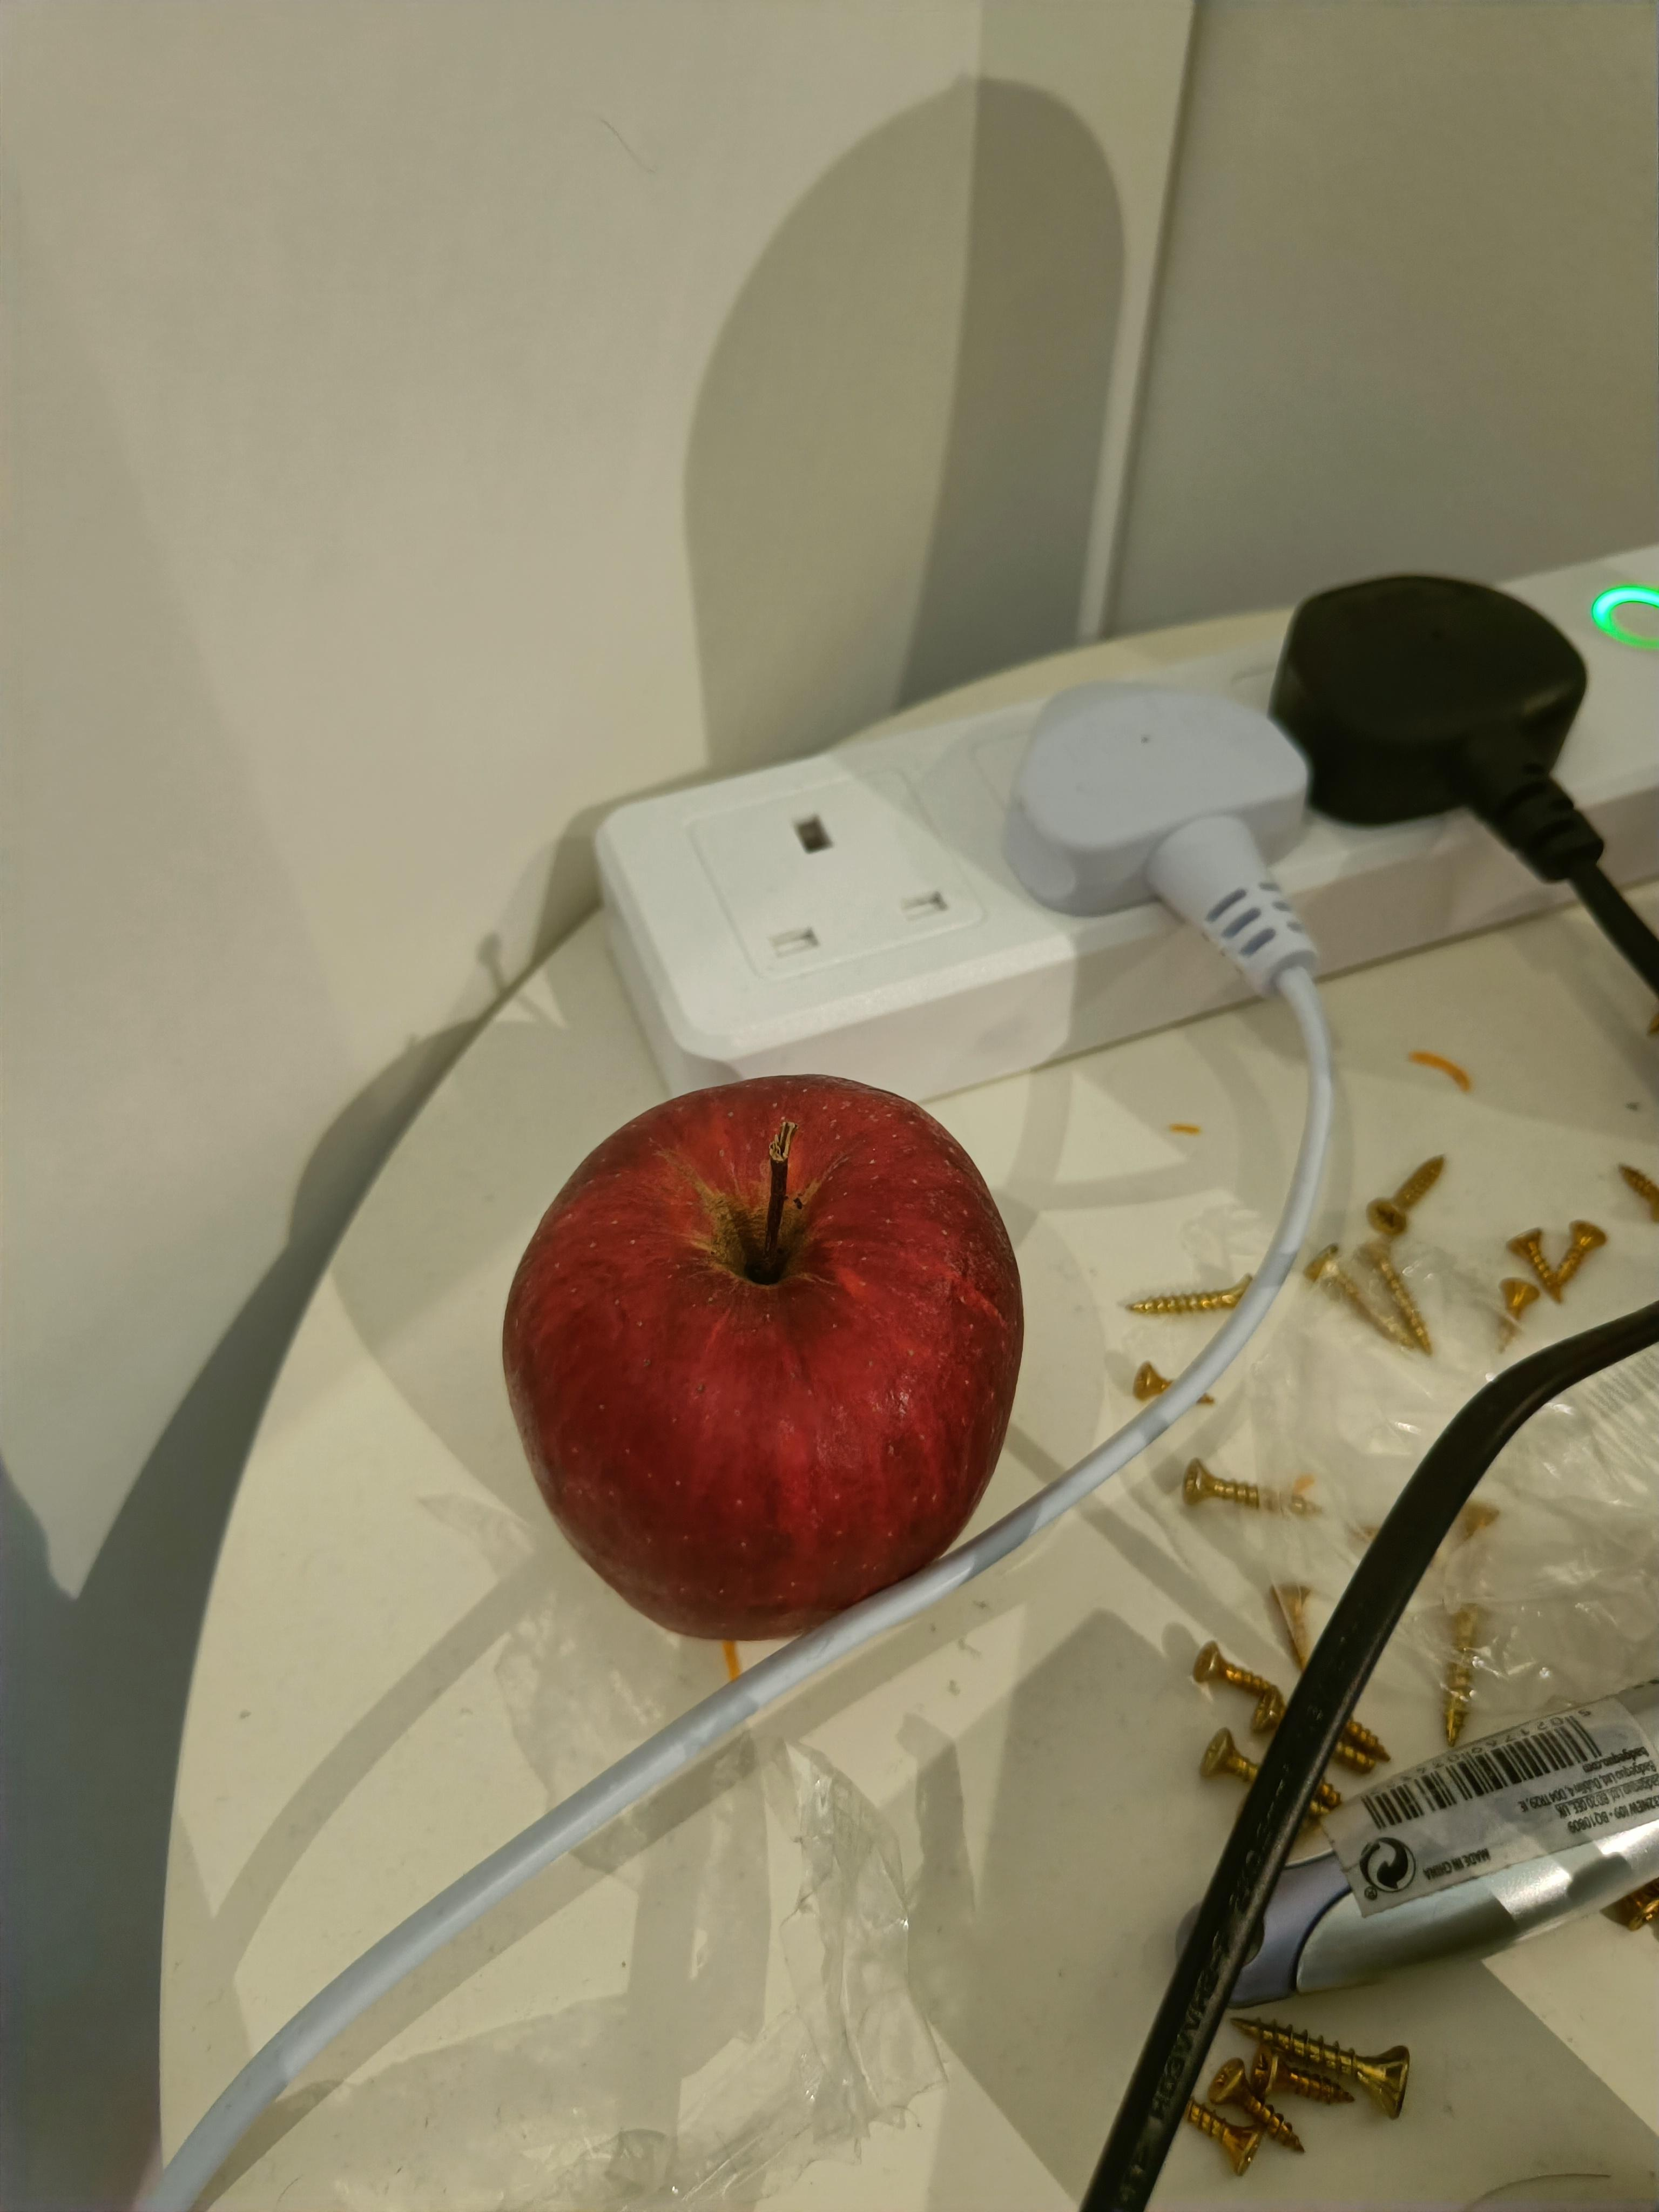Apple: (472, 1033, 1051, 1667)
